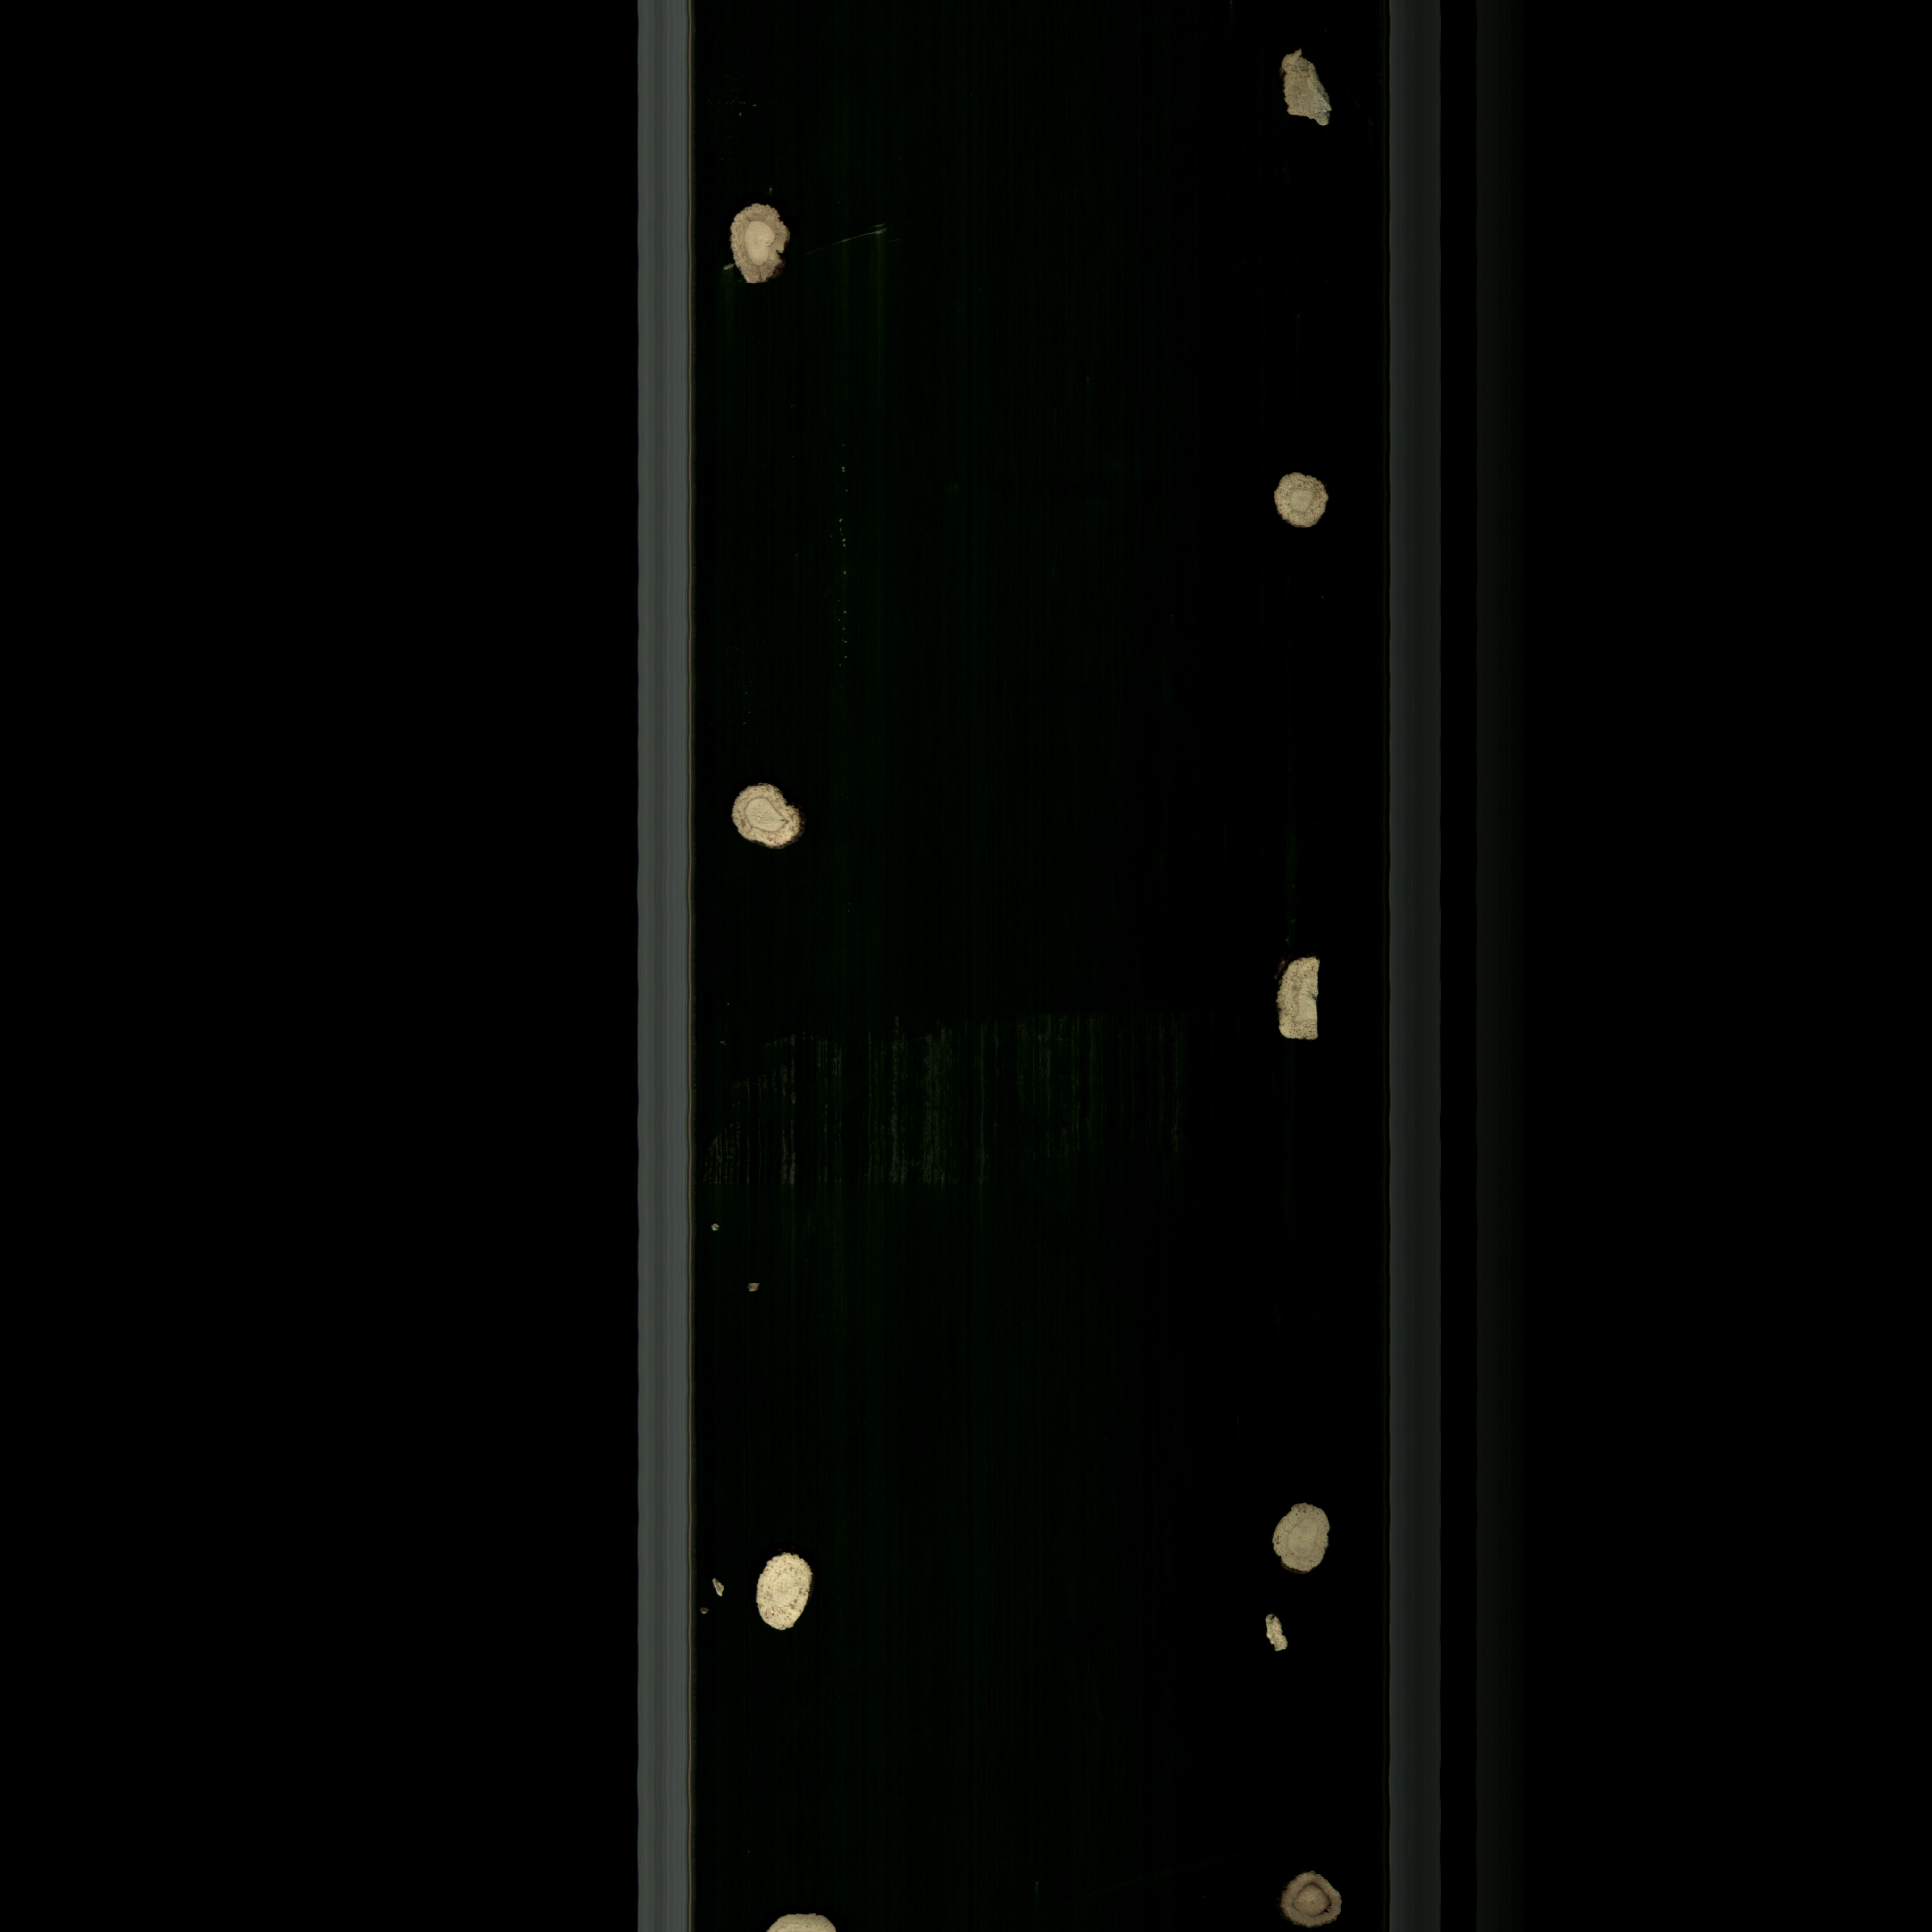debris: (747, 1909, 863, 1932)
distortion: (1277, 42, 1343, 134)
dreg: (1260, 1605, 1297, 1667), (702, 1576, 732, 1608), (743, 1276, 770, 1306), (711, 1212, 724, 1240)
moldy: (1265, 936, 1332, 1053), (724, 196, 798, 292), (1274, 1868, 1353, 1927)
